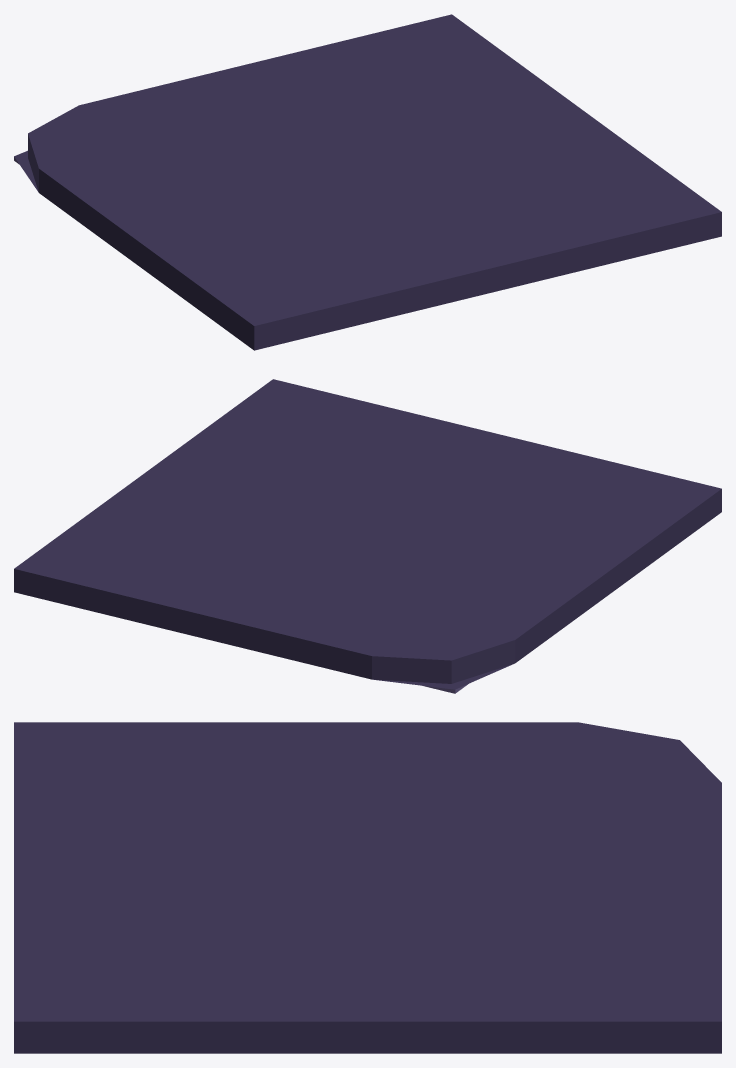
File: Ceiling_Corner_UR.fbx
The picture shows the model from 3 angles, top to bottom: view 1: azimuth 30°, elevation 25°; view 2: azimuth 150°, elevation 25°; view 3: azimuth 270°, elevation 25°; orthographic projection. The views are drawn at different scales.
Parts seen in each view (by area): view 1: Ceiling_Tile.001; view 2: Ceiling_Tile.001; view 3: Ceiling_Tile.001.
Part boxes in pixels (left/top/right/bottom): Ceiling_Tile.001: left=14, top=14, right=721, bottom=350; Ceiling_Tile.001: left=14, top=379, right=721, bottom=693; Ceiling_Tile.001: left=14, top=722, right=721, bottom=1053.
Size of the model in its own units: 2 by 0.1177 by 2.
